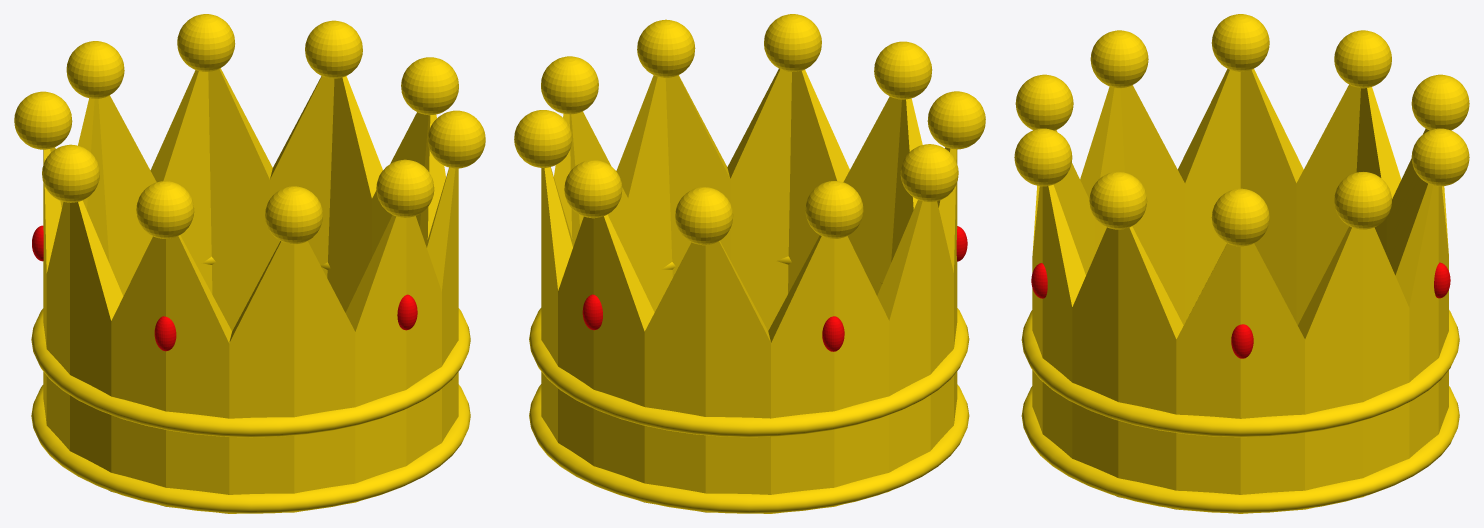
Rendered from Crown.fbx.
3 renders of one model, left to right at view 1: azimuth 30°, elevation 25°; view 2: azimuth 150°, elevation 25°; view 3: azimuth 270°, elevation 25°, orthographic.
Visible parts, largest first — view 1: 円柱.003, トーラス.001, トーラス.002, 球, 球.003, 球.005, 球.009, 球.001, 球.002, 球.008, 球.004, 球.007 (+3 smaller); view 2: 円柱.003, トーラス.001, トーラス.002, 球, 球.006, 球.002, 球.008, 球.009, 球.003, 球.007, 球.004, 球.001 (+3 smaller); view 3: 円柱.003, トーラス.001, トーラス.002, 球.002, 球.003, 球.001, 球.007, 球.004, 球.005, 球, 球.009, 球.008 (+2 smaller).
Boxes of the visible parts, x1,y1,x2,y2 form: 円柱.003: [43, 68, 458, 513]; トーラス.001: [31, 256, 470, 437]; トーラス.002: [31, 384, 470, 513]; 球: [42, 144, 99, 202]; 球.003: [376, 159, 434, 217]; 球.005: [14, 91, 72, 149]; 球.009: [427, 110, 485, 168]; 球.001: [401, 57, 458, 115]; 球.002: [177, 14, 235, 71]; 球.008: [265, 186, 322, 244]; 球.004: [305, 20, 362, 78]; 球.007: [136, 181, 194, 238]; 円柱.003: [541, 68, 957, 513]; トーラス.001: [529, 256, 969, 437]; トーラス.002: [529, 384, 969, 513]; 球: [900, 144, 958, 202]; 球.006: [675, 187, 733, 245]; 球.002: [564, 160, 622, 218]; 球.008: [874, 41, 932, 99]; 球.009: [637, 19, 695, 77]; 球.003: [764, 14, 821, 71]; 球.007: [927, 91, 985, 149]; 球.004: [514, 110, 572, 167]; 球.001: [541, 56, 598, 114]; 円柱.003: [1032, 68, 1448, 513]; トーラス.001: [1021, 310, 1459, 437]; トーラス.002: [1021, 386, 1459, 513]; 球.002: [1411, 128, 1469, 186]; 球.003: [1014, 128, 1072, 186]; 球.001: [1211, 188, 1269, 246]; 球.007: [1090, 30, 1148, 88]; 球.004: [1334, 172, 1391, 229]; 球.005: [1334, 30, 1391, 88]; 球: [1211, 14, 1269, 71]; 球.009: [1089, 171, 1147, 229]; 球.008: [1015, 74, 1073, 130].
Size of the model in its own units: 234 by 176 by 226.
